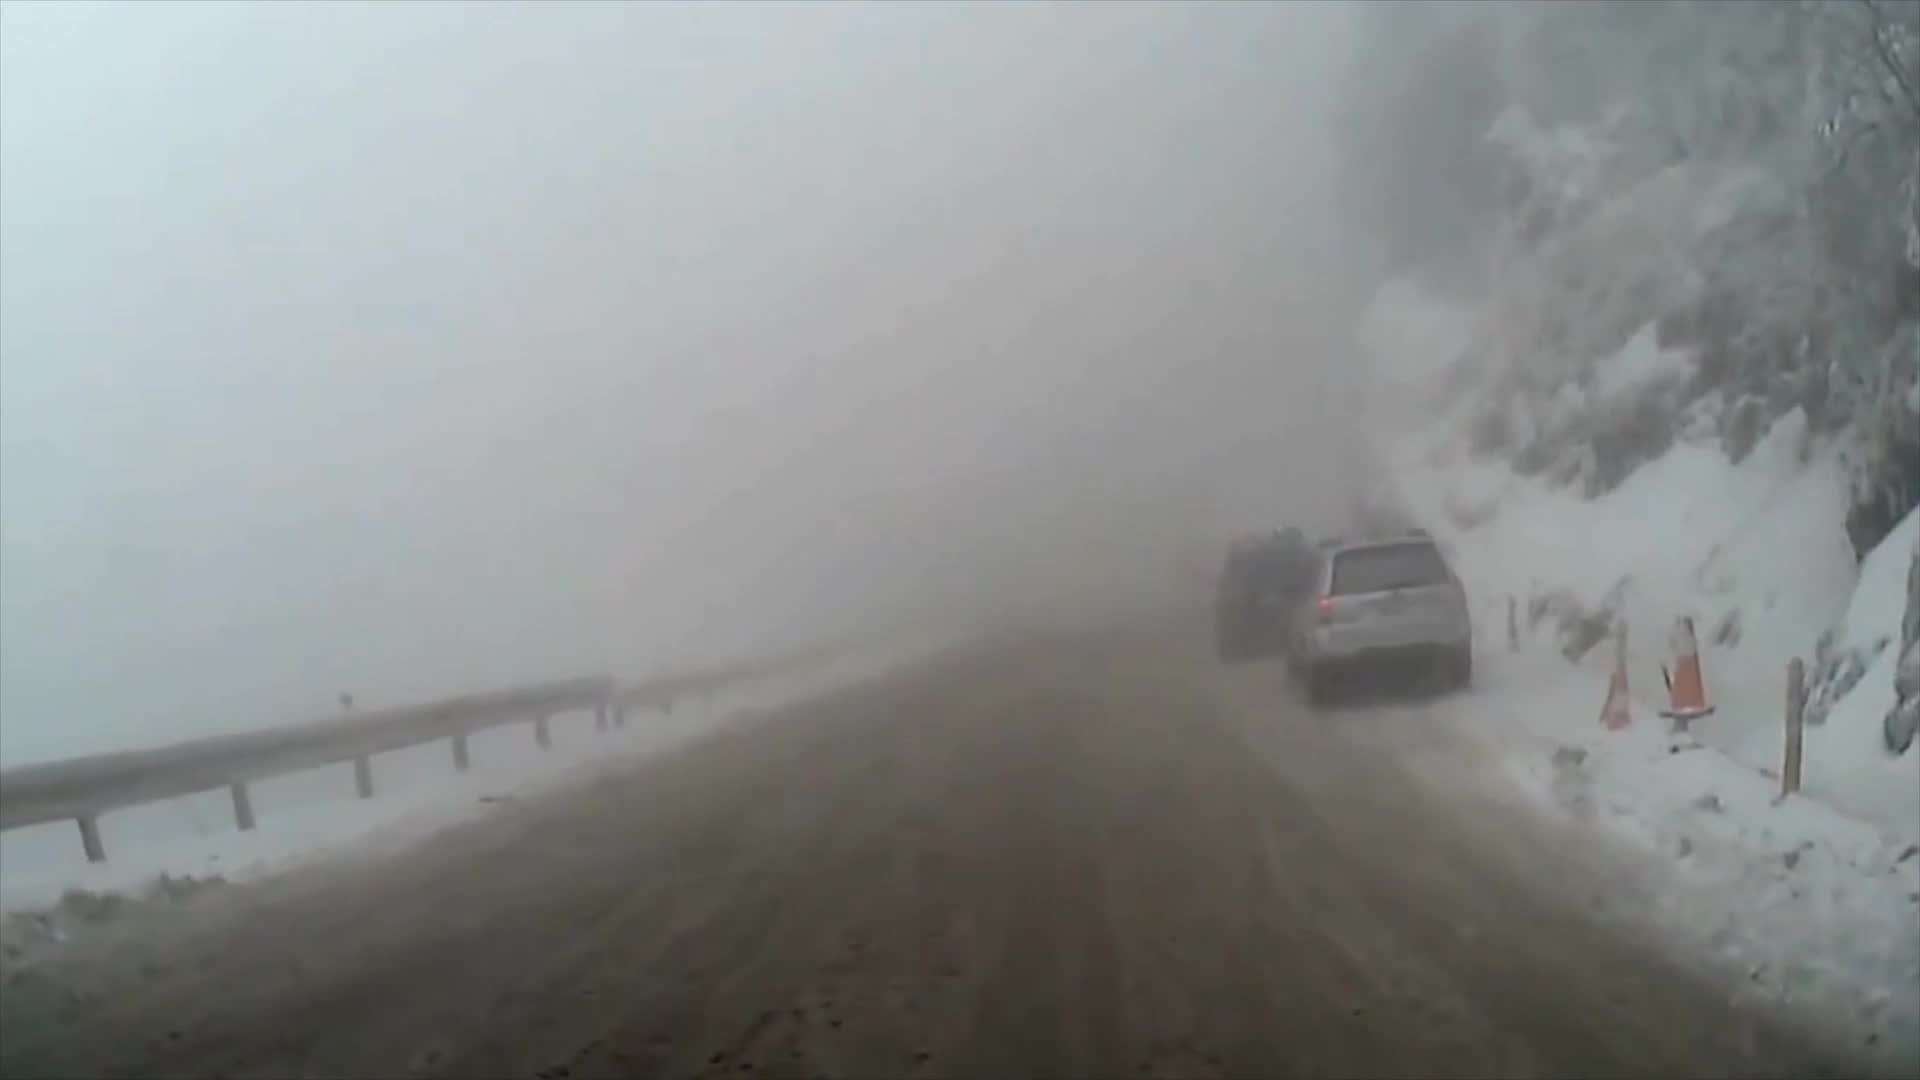vehicle: (1283, 524, 1476, 709), (1211, 524, 1340, 667)
